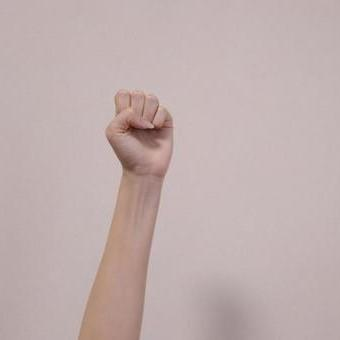gu-: (104, 88, 174, 170)
